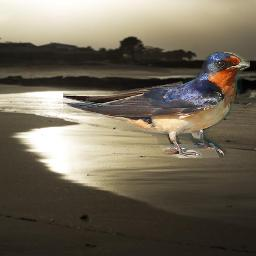Swallow: (63, 52, 250, 158)
